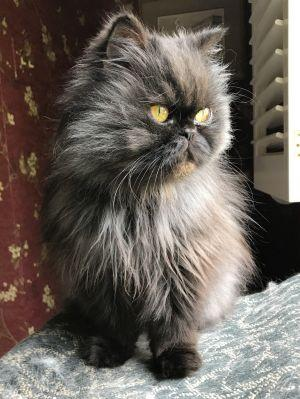persian: (63, 8, 241, 204)
